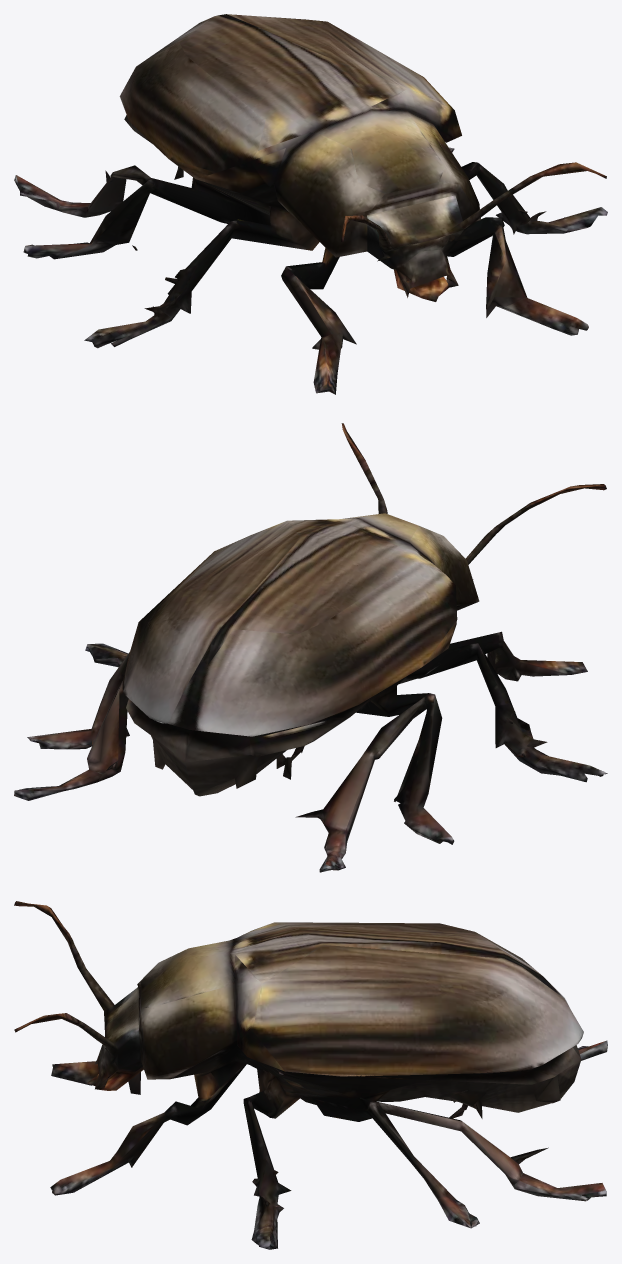
Rendered from whirligig-beetle_lo.glb.
3 renders of one model, top to bottom at view 1: azimuth 30°, elevation 25°; view 2: azimuth 150°, elevation 25°; view 3: azimuth 270°, elevation 25°, orthographic. The views are drawn at different scales.
Visible parts, largest first — view 1: geometry_0; view 2: geometry_0; view 3: geometry_0.
Boxes of the visible parts, box(x1,y1,x2,y2) form: geometry_0: box(14, 14, 607, 394); geometry_0: box(14, 423, 607, 872); geometry_0: box(14, 901, 607, 1249).
Bounding box in the file's own units: 0.9905 × 0.364 × 0.9994.
1 material, 1 textured.
